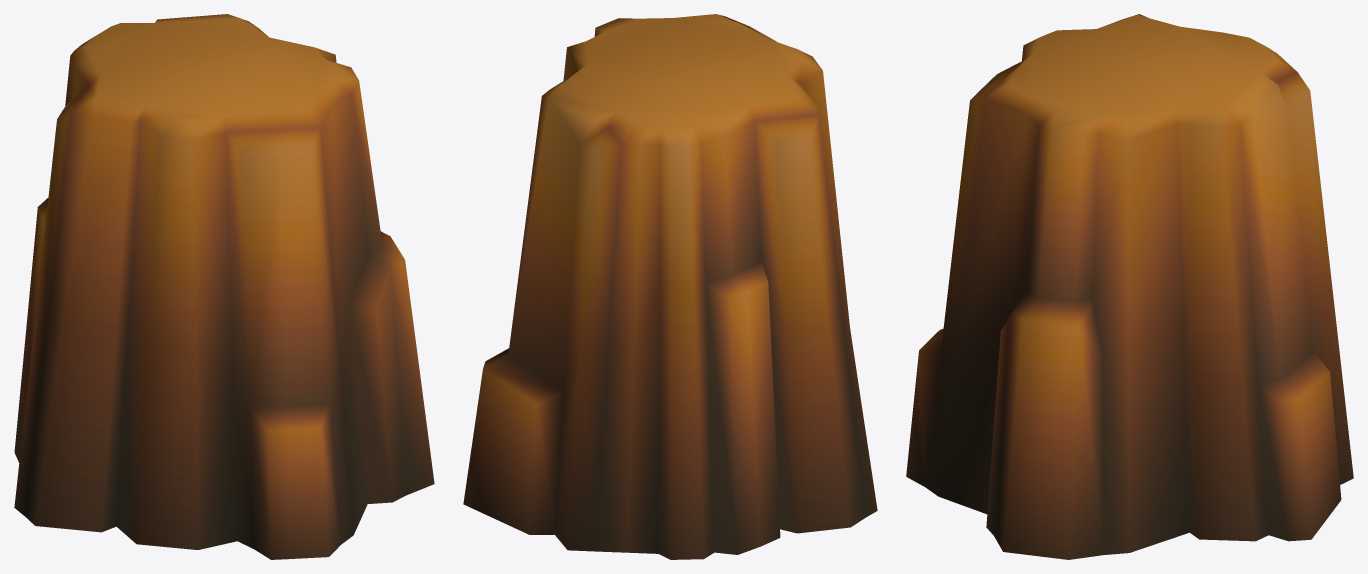
Rendered from m_Cliff02_B.fbx.
3 views of the same model, side by side, from view 1: azimuth 30°, elevation 25°; view 2: azimuth 150°, elevation 25°; view 3: azimuth 270°, elevation 25° (orthographic).
Parts seen in each view (by area): view 1: m_Cliff02_B; view 2: m_Cliff02_B; view 3: m_Cliff02_B.
Boxes of the visible parts, <box> form: m_Cliff02_B: <box>14,14,434,559</box>; m_Cliff02_B: <box>463,14,877,559</box>; m_Cliff02_B: <box>906,14,1353,559</box>.
Bounding box in the file's own units: 925 × 996 × 997.
